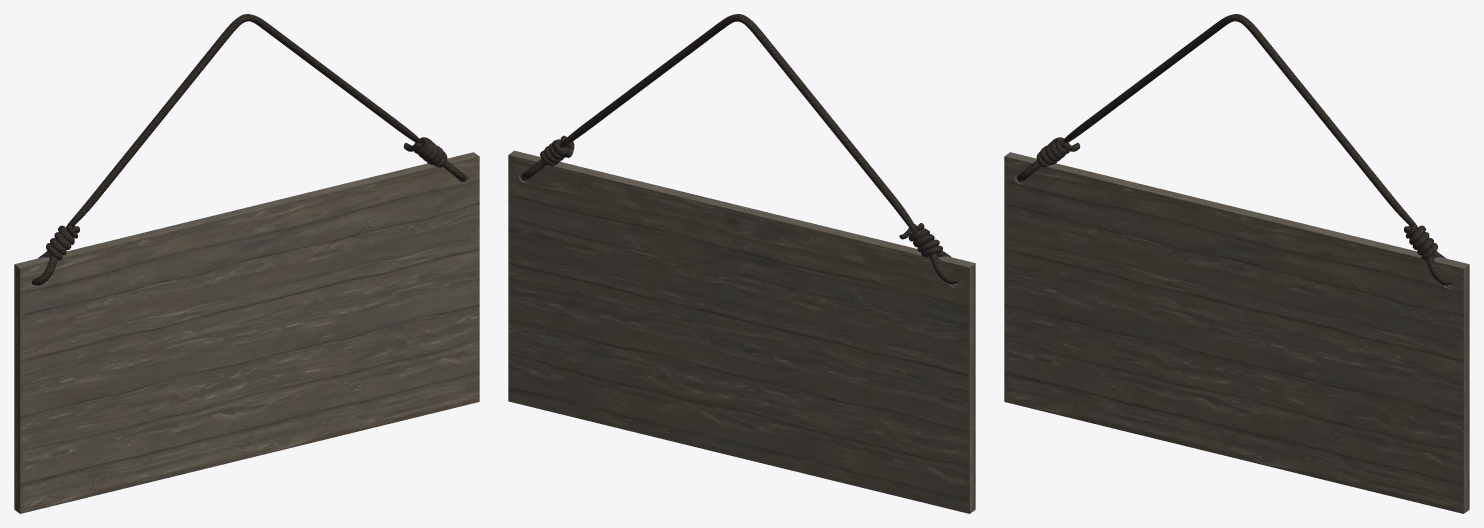
File: hanging-wooden-sign-themed.glb
The picture shows the model from 3 angles, left to right: view 1: azimuth 30°, elevation 25°; view 2: azimuth 150°, elevation 25°; view 3: azimuth 330°, elevation 25°; orthographic projection.
Parts seen in each view (by area): view 1: WoodenBoard, HangingRope; view 2: WoodenBoard, HangingRope; view 3: WoodenBoard, HangingRope.
Boxes of the visible parts, bbox=[...] form: WoodenBoard: bbox=[14, 152, 479, 513]; HangingRope: bbox=[31, 14, 466, 285]; WoodenBoard: bbox=[508, 150, 975, 513]; HangingRope: bbox=[521, 14, 958, 284]; WoodenBoard: bbox=[1004, 152, 1469, 513]; HangingRope: bbox=[1017, 14, 1452, 285].
Bounding box in the file's own units: 2 × 1.83 × 0.1235.
Materials: 2 (2 with a texture image).
